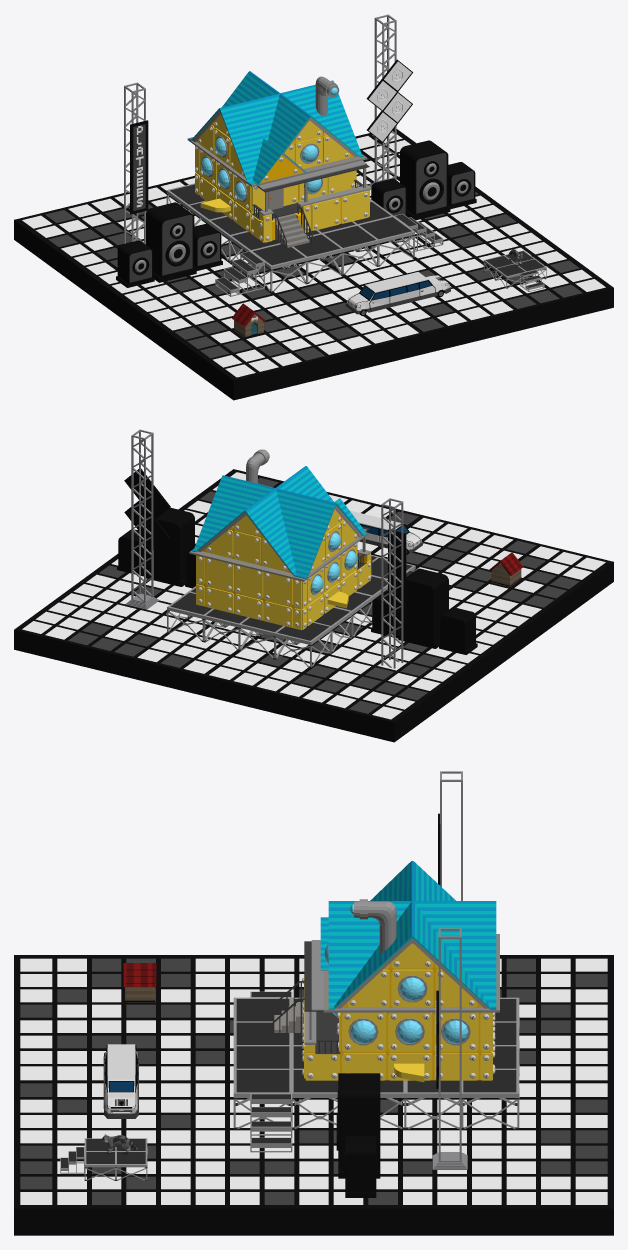
3 views of the same model, one above another, from view 1: azimuth 30°, elevation 25°; view 2: azimuth 150°, elevation 25°; view 3: azimuth 270°, elevation 25° (orthographic). The views are drawn at different scales.
Parts seen in each view (by area): view 1: Cube.008, Cube.1366, VEHICLES_LIMOUSINE, OBJRANDOM_DOGHOUSE; view 2: Cube.008, Cube.1366, VEHICLES_LIMOUSINE, OBJRANDOM_DOGHOUSE; view 3: Cube.008, Cube.1366, VEHICLES_LIMOUSINE, OBJRANDOM_DOGHOUSE.
Boxes of the visible parts, <box> form: Cube.008: <box>14,14,613,400</box>; Cube.1366: <box>187,71,371,248</box>; VEHICLES_LIMOUSINE: <box>345,272,450,315</box>; OBJRANDOM_DOGHOUSE: <box>232,303,265,337</box>; Cube.008: <box>14,429,613,742</box>; Cube.1366: <box>189,449,372,630</box>; VEHICLES_LIMOUSINE: <box>350,510,423,554</box>; OBJRANDOM_DOGHOUSE: <box>489,552,523,586</box>; Cube.008: <box>14,771,613,1235</box>; Cube.1366: <box>272,861,499,1082</box>; VEHICLES_LIMOUSINE: <box>103,1044,138,1118</box>; OBJRANDOM_DOGHOUSE: <box>123,963,156,1001</box>.
Bounding box in the file's own units: 4000 × 1950 × 4000.
43 materials, 1 textured.
